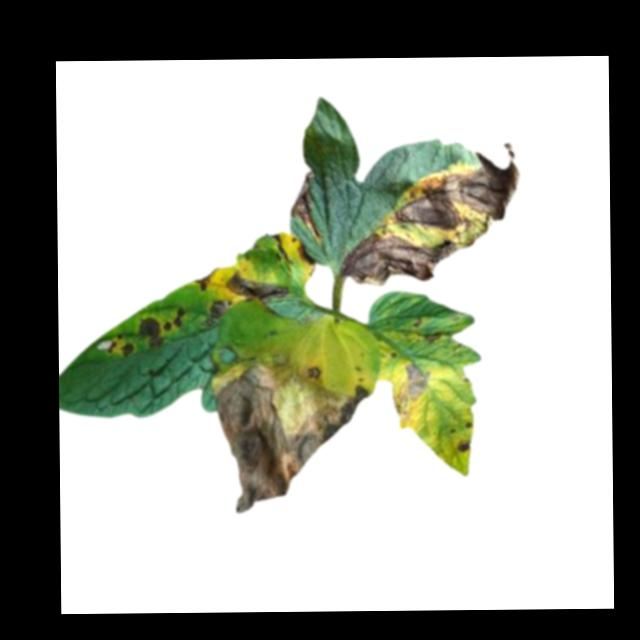Early_blight: (209, 355, 378, 515), (377, 140, 520, 227), (340, 226, 484, 288), (394, 359, 431, 424), (226, 271, 290, 304), (289, 171, 317, 236), (199, 298, 231, 327), (137, 315, 164, 347), (289, 235, 315, 267), (191, 267, 217, 291), (106, 336, 136, 356), (164, 307, 187, 332), (419, 327, 445, 343), (453, 436, 471, 454)
